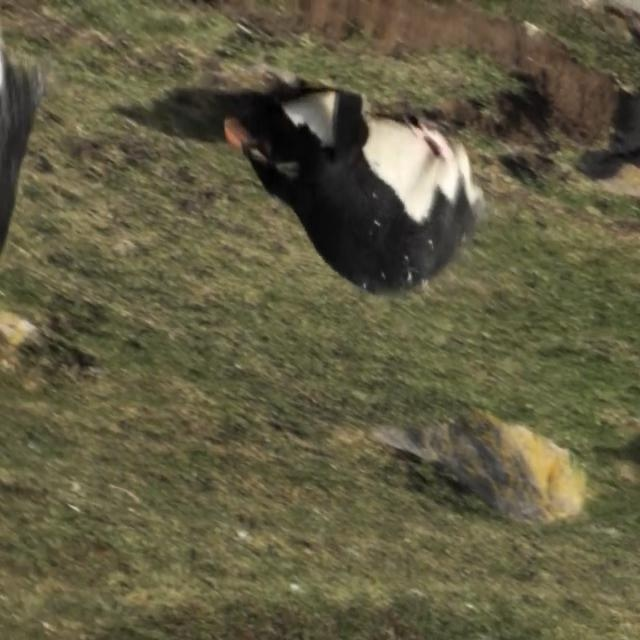penguin: (222, 86, 486, 297)
